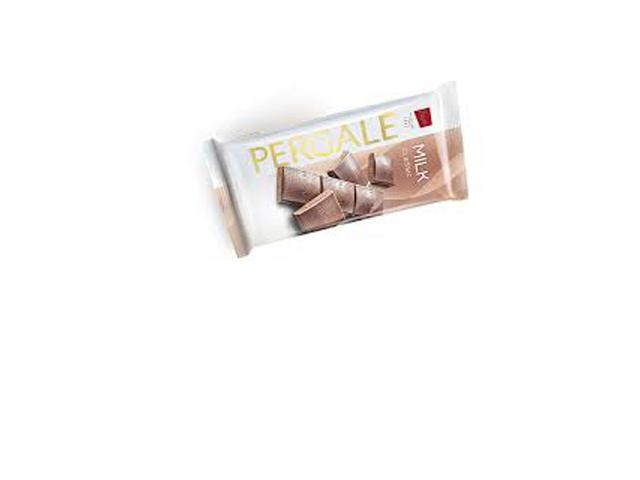chocolate: (222, 74, 468, 276)
